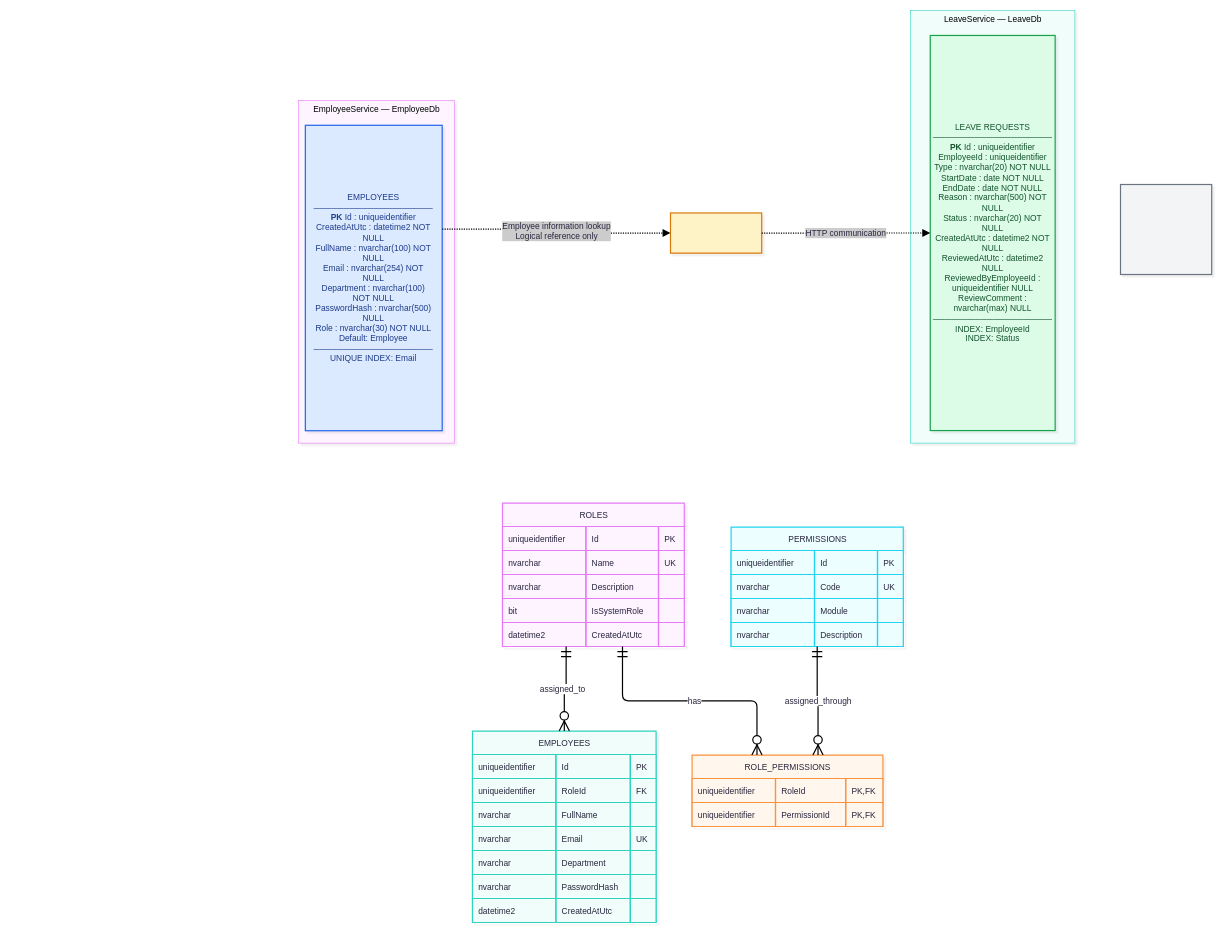
The diagram is 1225 pixels wide and 936 high, and some of its shapes have lost their labels. The centre of each missing label's shape, as x and y in pixels:
"EmployeeService Internal API" belongs at [717,234].
"IMPORTANT No physical SQL foreign key between EmployeeDb and LeaveDb" belongs at [1167,230].
